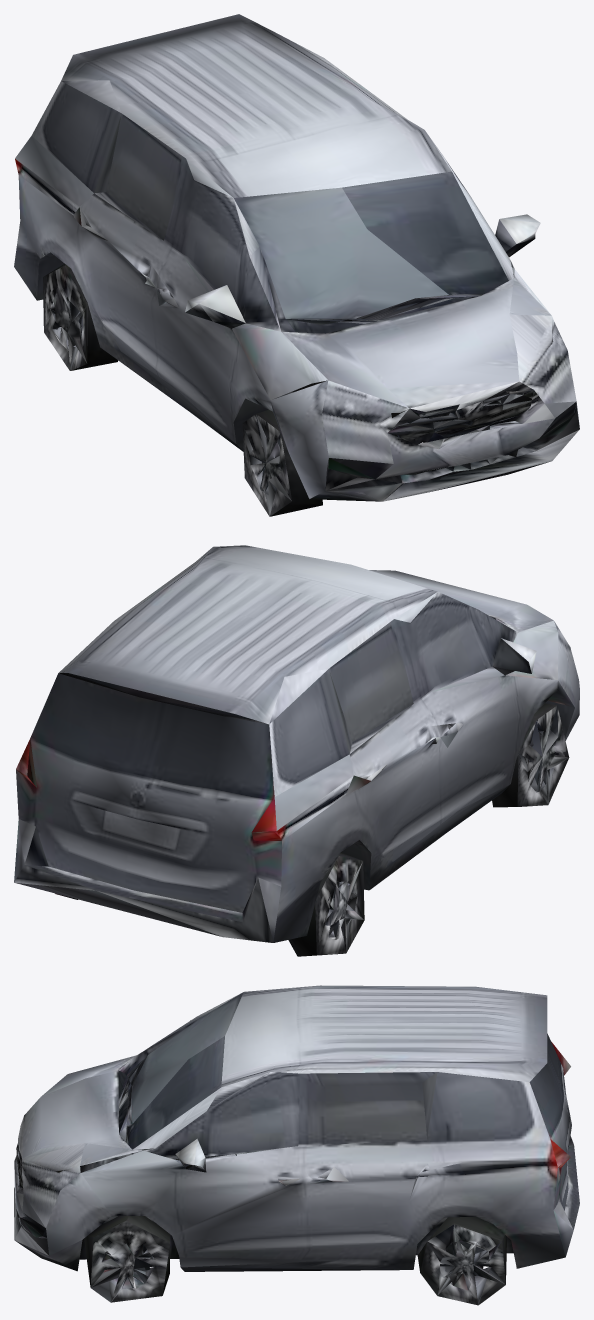
The model's file is mpv-lod1.glb.
3 renders of one model, top to bottom at view 1: azimuth 30°, elevation 25°; view 2: azimuth 150°, elevation 25°; view 3: azimuth 270°, elevation 25°, orthographic. The views are drawn at different scales.
Parts seen in each view (by area): view 1: tripo_node_ac270028; view 2: tripo_node_ac270028; view 3: tripo_node_ac270028.
Part boxes in pixels (x1=…): tripo_node_ac270028: x1=14, y1=14, x2=579, y2=516; tripo_node_ac270028: x1=14, y1=545, x2=579, y2=956; tripo_node_ac270028: x1=14, y1=985, x2=579, y2=1305.
Bounding box in the file's own units: 2.98 × 2.26 × 5.
Materials: 1 (1 with a texture image).
